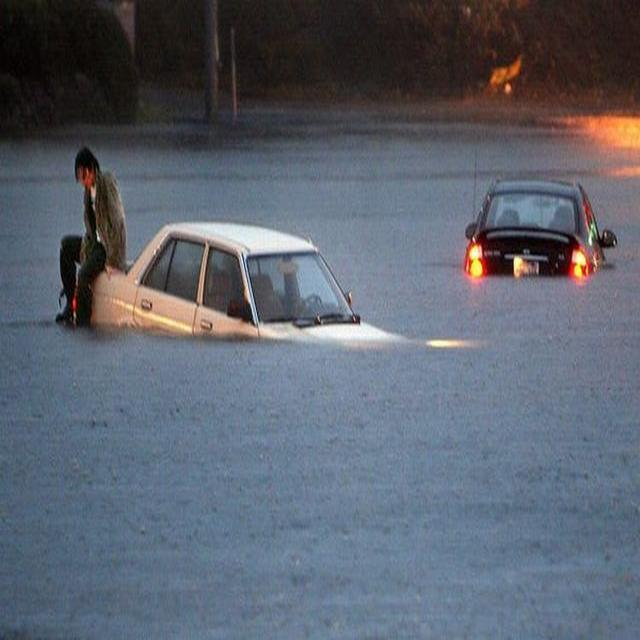Car-RiskLevel3: (57, 212, 461, 367), (452, 174, 622, 295)
Person-RiskLevel3: (34, 129, 130, 333)
